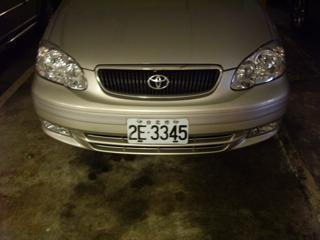plate: (125, 116, 190, 147)
